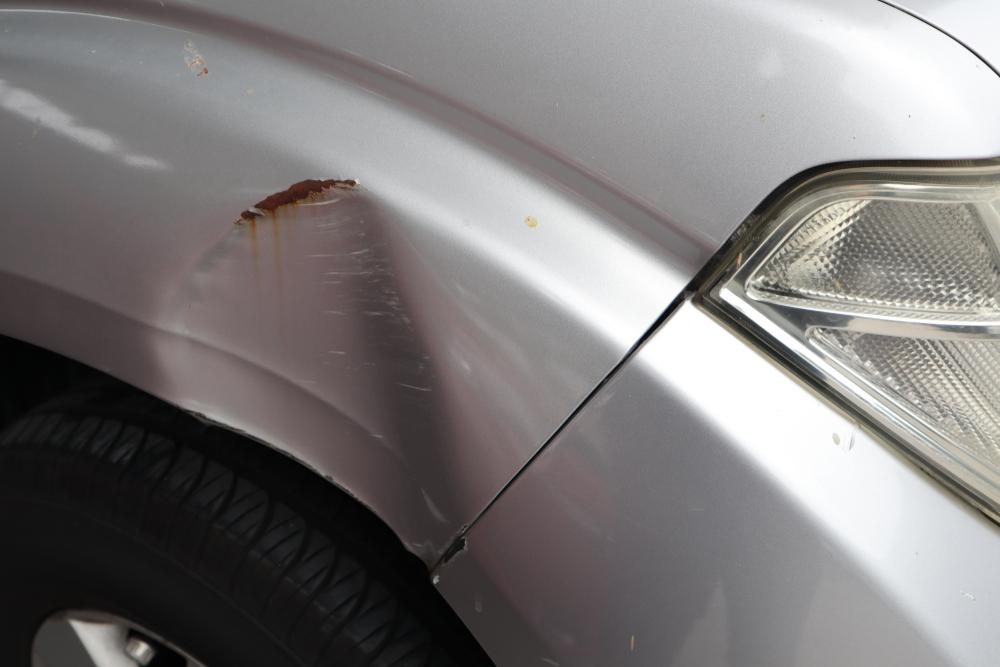dent: (157, 179, 464, 575)
